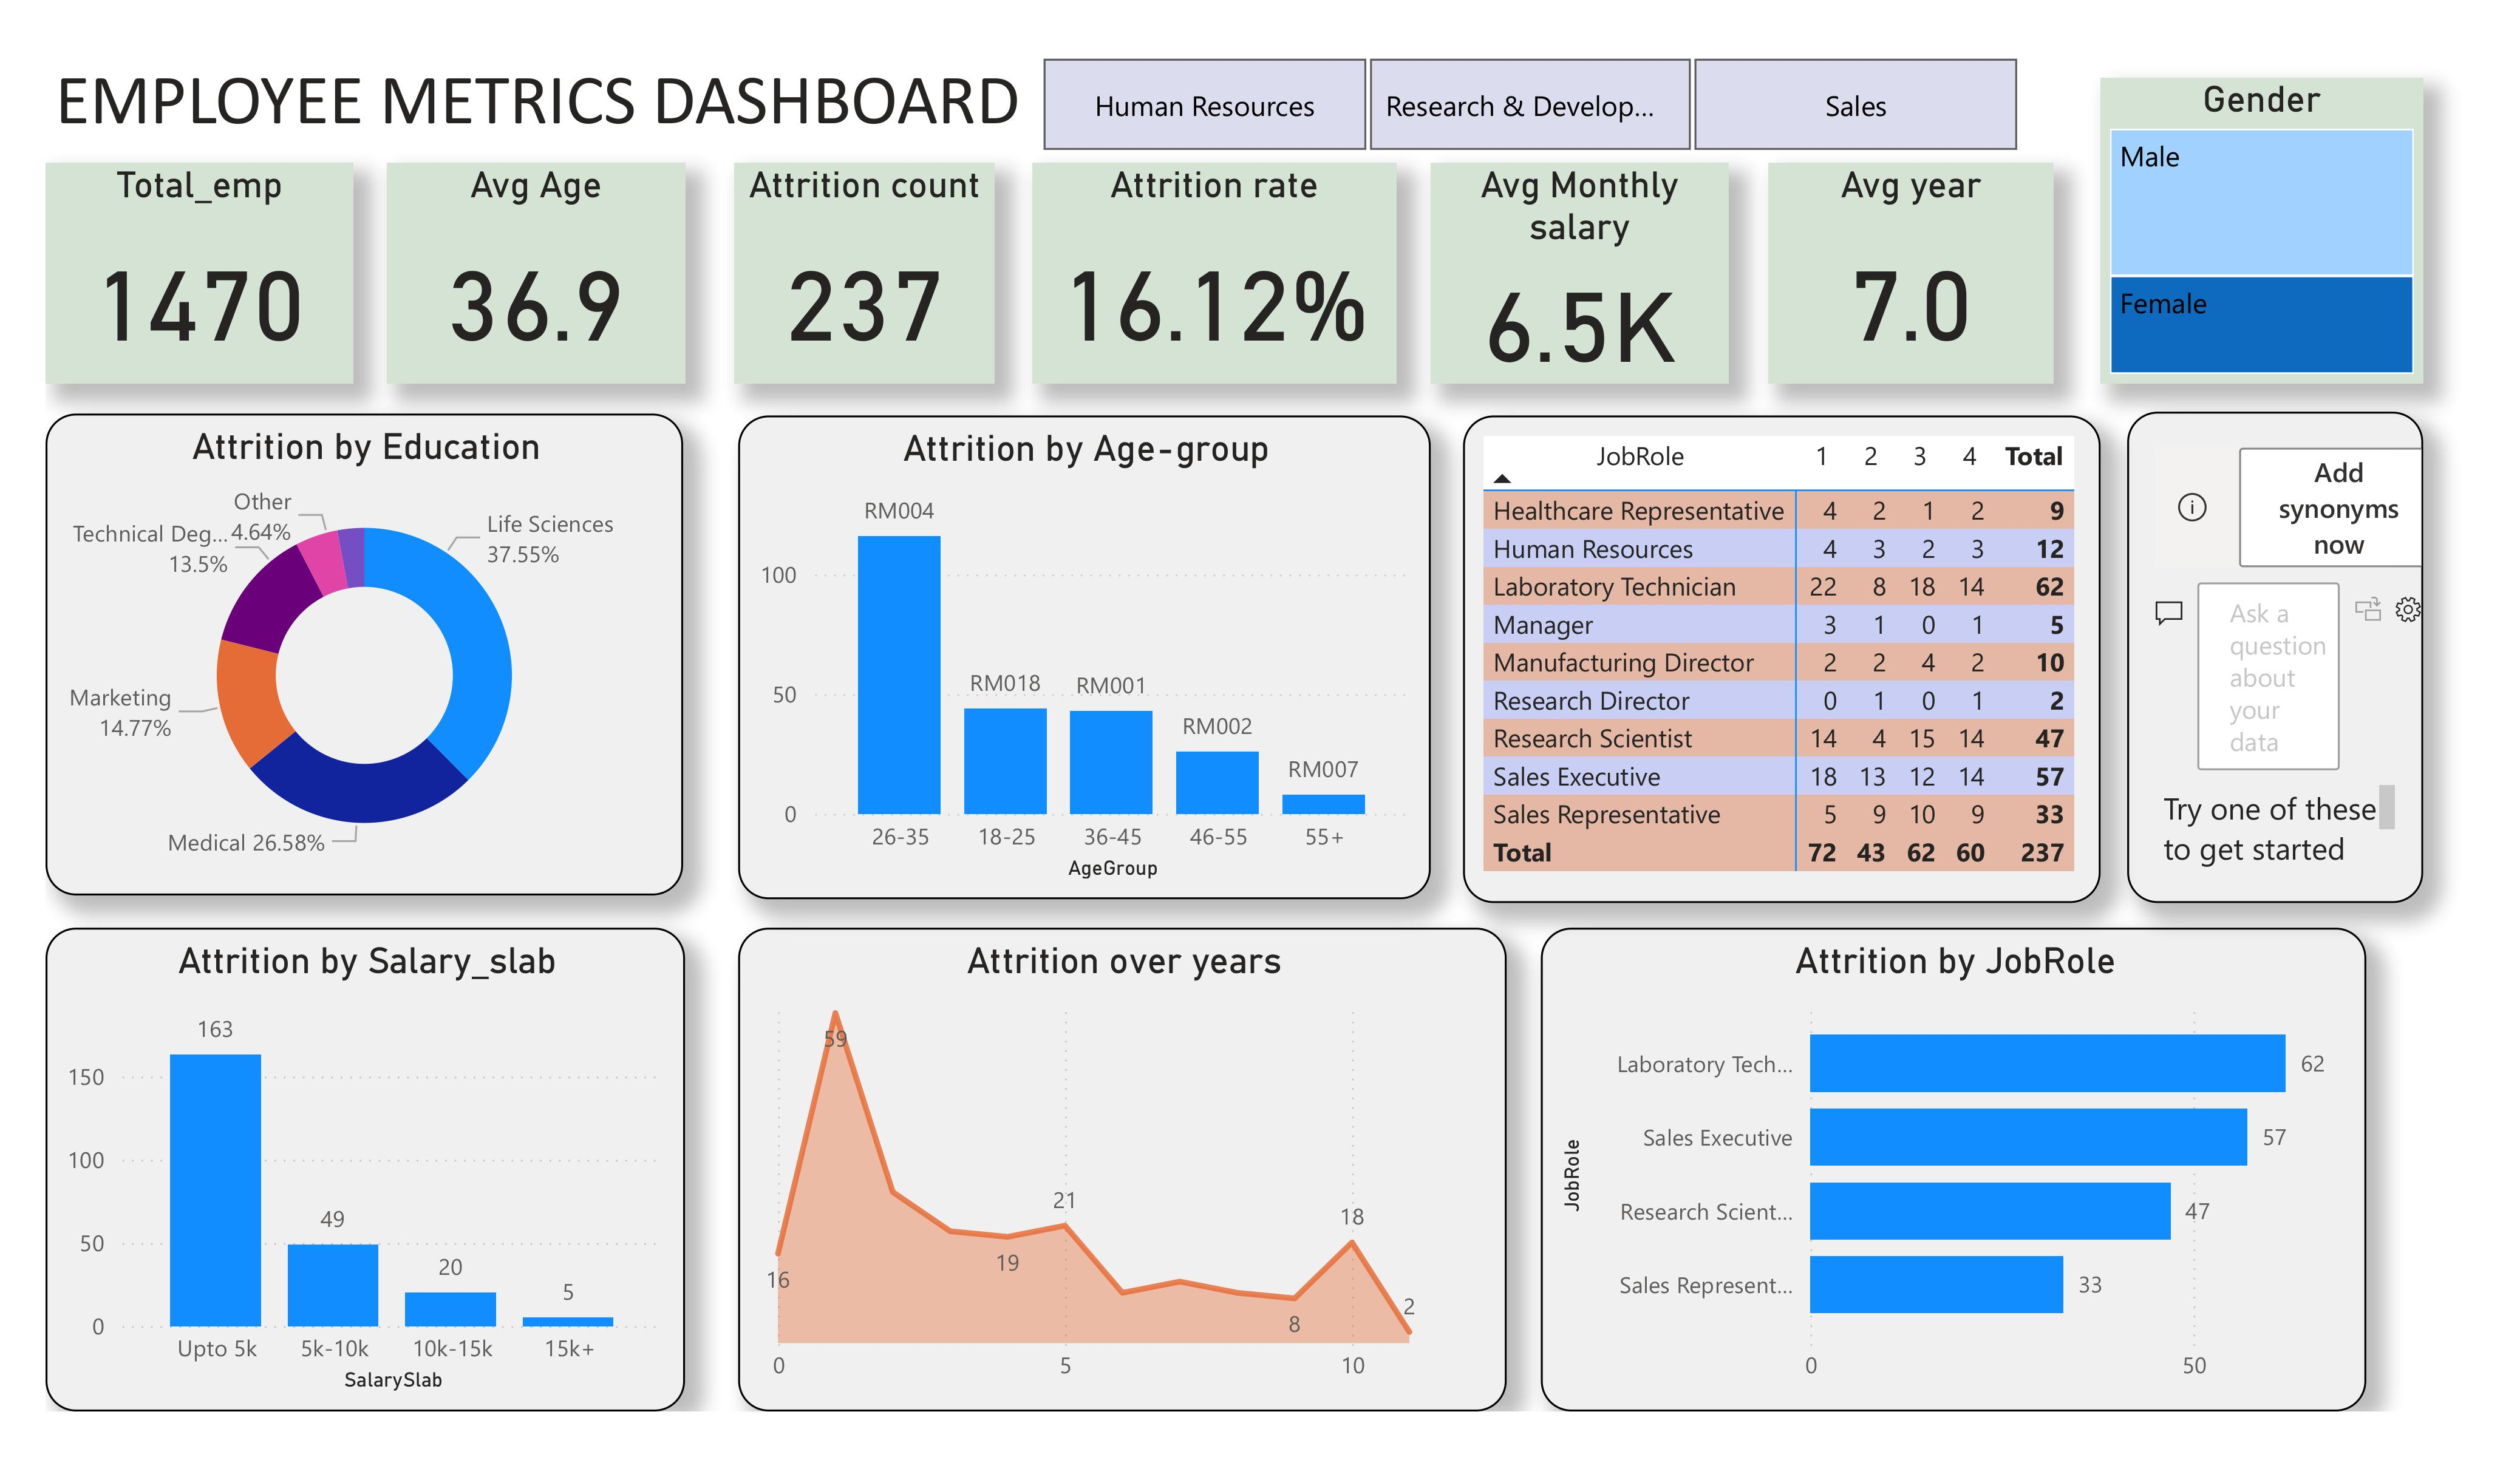

This screenshot's page, from the dashboard's own definition file:
{"tool":"powerbi","page":{"name":"Page 1","canvas":[1280,720],"ordinal":0},"visuals":[{"type":"card","title":"Total_emp","fields":{"Values":["CountNonNull(HR_Analytics.EmpID)"]},"box":[0,61.7,161.7,116.7],"z":0},{"type":"card","title":"Avg Age","fields":{"Values":["Avg(HR_Analytics.Age)"]},"box":[180,61.7,156.7,116.7],"z":1000},{"type":"card","title":"Attrition count","fields":{"Values":["Sum(HR_Analytics.Attrition_cnt)"]},"box":[363.3,61.7,136.7,116.7],"z":2000},{"type":"card","title":"Attrition rate","fields":{"Values":["HR_Analytics.Attrition_rate"]},"box":[520,61.7,191.7,116.7],"z":3000},{"type":"card","title":"Avg year","fields":{"Values":["Avg(HR_Analytics.YearsAtCompany)"]},"box":[908.3,61.7,150,116.7],"z":4000},{"type":"card","title":"Avg Monthly salary","fields":{"Values":["Avg(HR_Analytics.MonthlyIncome)"]},"box":[730,61.7,156.7,116.7],"z":5000},{"type":"donutChart","title":"Attrition by Education","fields":{"Y":["Sum(HR_Analytics.Attrition_cnt)"],"Category":["HR_Analytics.EducationField"]},"box":[0,194,336,254],"z":6000},{"type":"columnChart","title":"Attrition by Age-group","fields":{"Category":["HR_Analytics.AgeGroup"],"Y":["Sum(HR_Analytics.Attrition_cnt)"]},"box":[365,195,365,255],"z":7000},{"type":"pivotTable","title":"by job role and env_satisfaction","fields":{"Columns":["HR_Analytics.EnvironmentSatisfaction"],"Values":["Sum(HR_Analytics.Attrition_cnt)"],"Rows":["HR_Analytics.JobRole"]},"box":[746.7,195,336.7,256.7],"z":8000},{"type":"columnChart","title":"Attrition by Salary_slab","fields":{"Y":["Sum(HR_Analytics.Attrition_cnt)"],"Category":["HR_Analytics.SalarySlab"]},"box":[0,465,336.7,255],"z":9000},{"type":"barChart","title":"Attrition by JobRole","fields":{"Y":["Sum(HR_Analytics.Attrition_cnt)"],"Category":["HR_Analytics.JobRole"]},"box":[788.3,465,435,255],"z":10000},{"type":"areaChart","title":"Attrition over years","fields":{"Y":["Sum(HR_Analytics.Attrition_cnt)"],"Category":["HR_Analytics.YearsAtCompany"]},"box":[365,465,405,255],"z":11000},{"type":"treemap","title":"Gender","fields":{"Group":["HR_Analytics.Gender"],"Values":["CountNonNull(HR_Analytics.EmpID)"]},"box":[1083.3,16.7,170,161.7],"z":12000},{"type":"slicer","fields":{"Values":["HR_Analytics.Department"]},"box":[500,0,563.3,61.7],"z":12001},{"type":"qnaVisual","box":[1096.7,193.3,156.7,258.3],"z":12002},{"type":"textbox","box":[0,0,568.3,61.7],"z":12003}]}

Visuals, with their boxes in screenshot pixels (x1, y1, x2, y2):
"Total_emp" card: 46 163 352 384
"Avg Age" card: 387 163 684 384
"Attrition count" card: 735 163 995 384
"Attrition rate" card: 1032 163 1396 384
"Avg year" card: 1769 163 2054 384
"Avg Monthly salary" card: 1431 163 1728 384
"Attrition by Education" donutChart: 46 413 683 895
"Attrition by Age-group" columnChart: 738 415 1431 899
"by job role and env_satisfaction" pivotTable: 1462 415 2102 903
"Attrition by Salary_slab" columnChart: 46 928 684 1411
"Attrition by JobRole" barChart: 1541 928 2367 1411
"Attrition over years" areaChart: 738 928 1507 1411
"Gender" treemap: 2101 77 2424 384
slicer - HR_Analytics.Department: 995 46 2063 163
qnaVisual: 2127 412 2424 902
textbox: 46 46 1124 163
